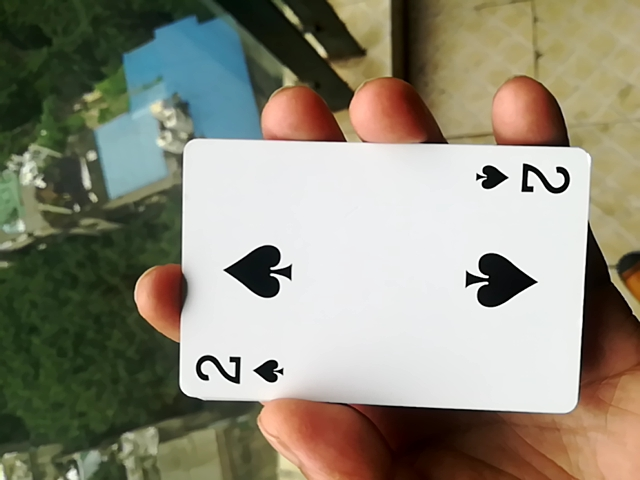ht 2: (165, 135, 583, 422)
